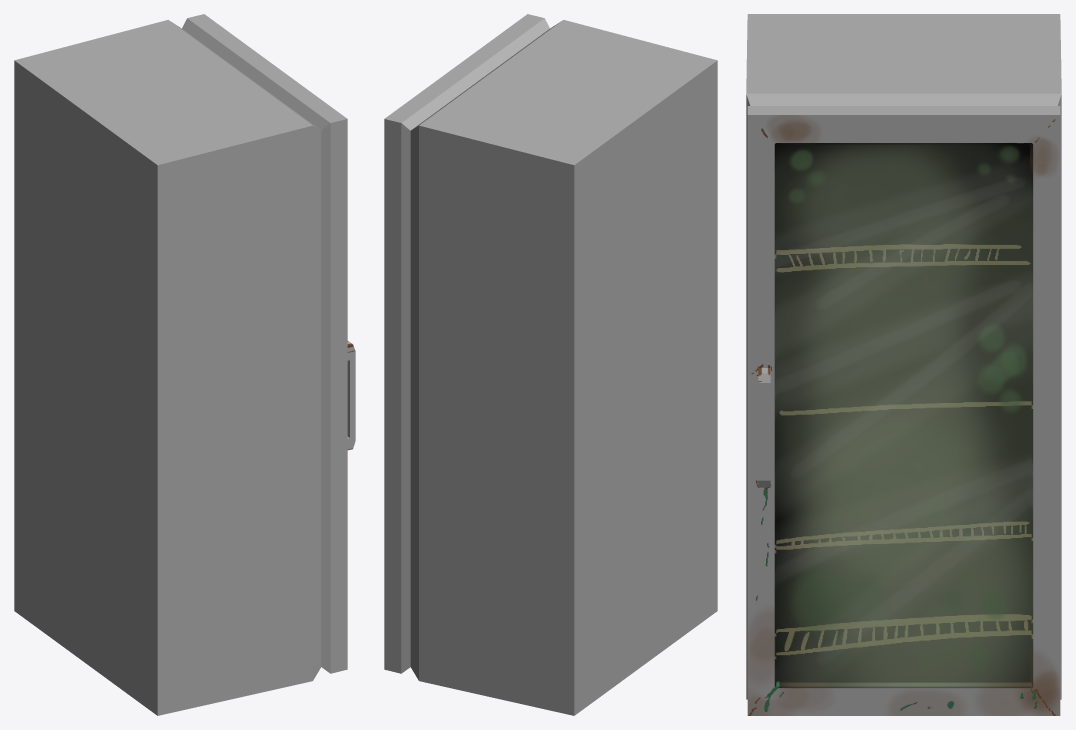
File: fridge.obj
3 renders of one model, left to right at view 1: azimuth 30°, elevation 25°; view 2: azimuth 150°, elevation 25°; view 3: azimuth 270°, elevation 25°, orthographic. The views are drawn at different scales.
Visible parts, largest first — view 1: Fridge1; view 2: Fridge1; view 3: Fridge1.
Part boxes in pixels (bbox=[...]): Fridge1: bbox=[14, 14, 355, 715]; Fridge1: bbox=[384, 14, 717, 715]; Fridge1: bbox=[746, 14, 1061, 715].
Bounding box in the file's own units: 5.35 × 13.99 × 6.6.
Materials: 1 (1 with a texture image).
